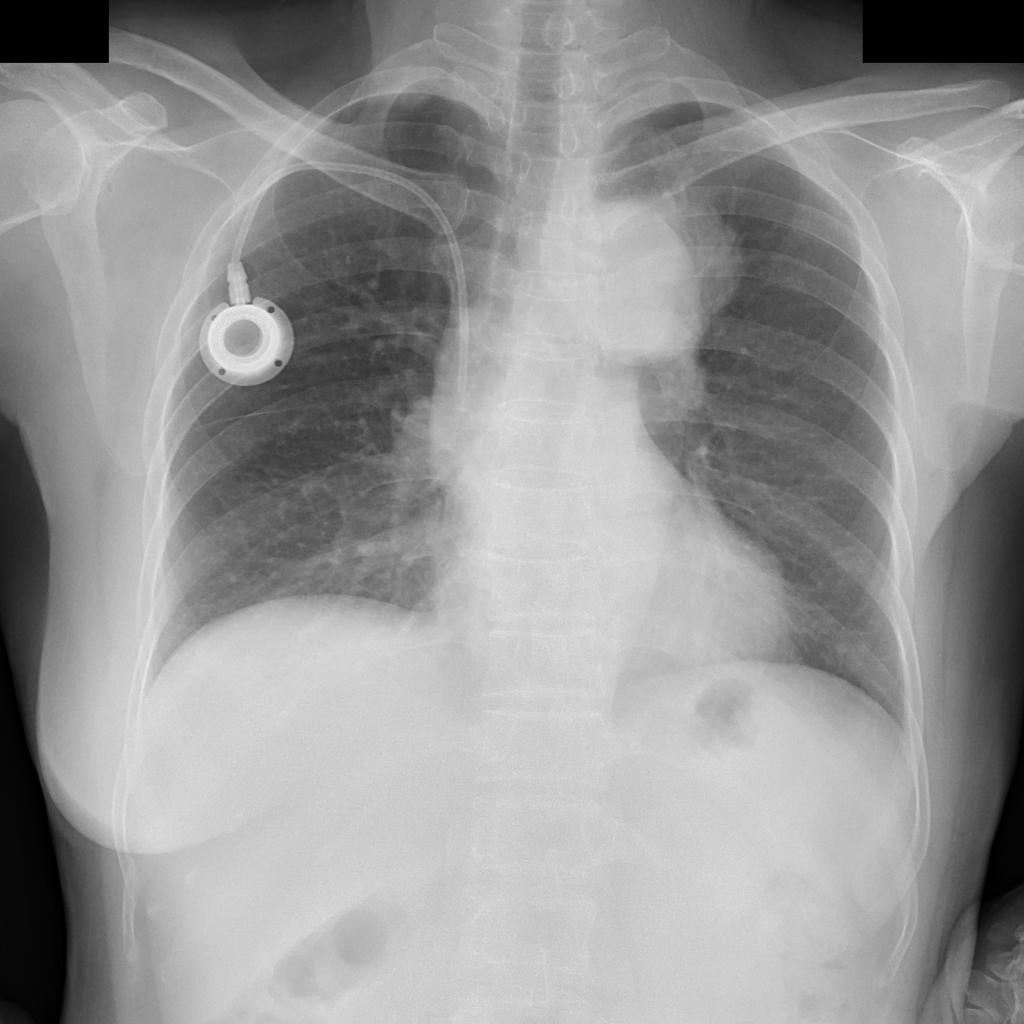Nodule: (568, 195, 749, 358)
